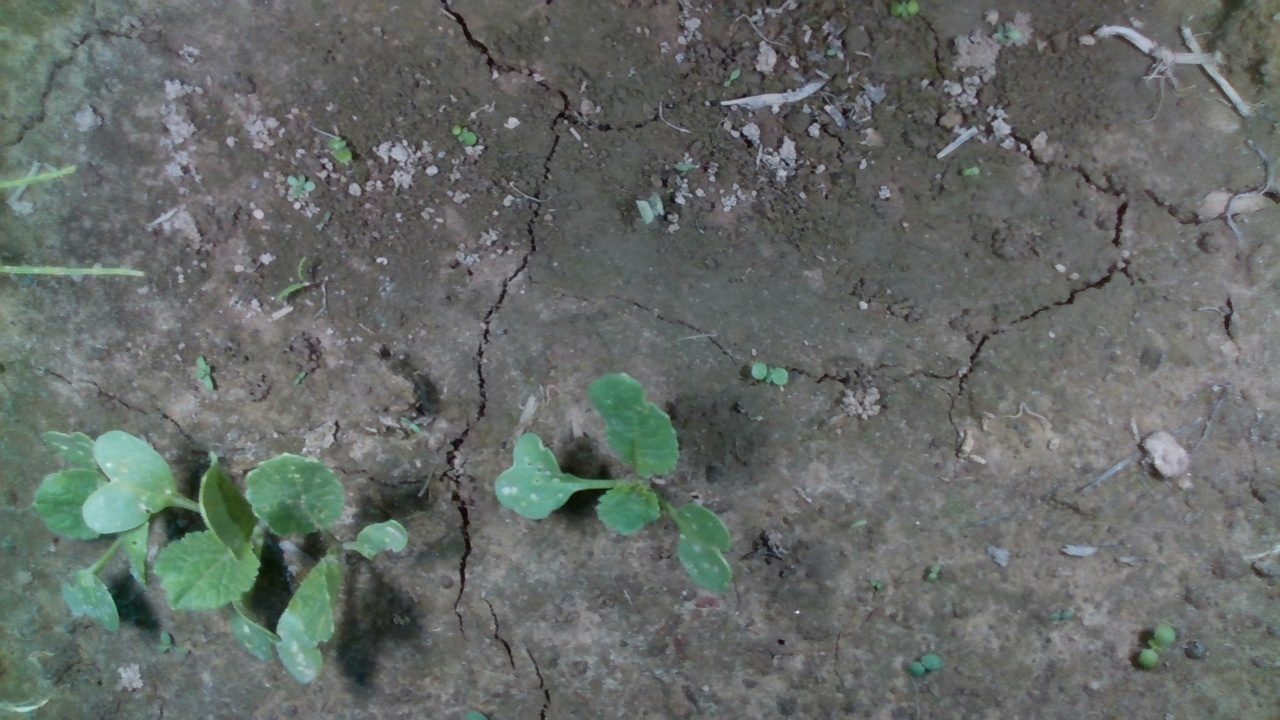weed: (1141, 626, 1184, 673), (904, 653, 960, 686), (748, 361, 791, 386), (281, 171, 316, 201), (928, 561, 951, 583), (862, 577, 890, 594)
